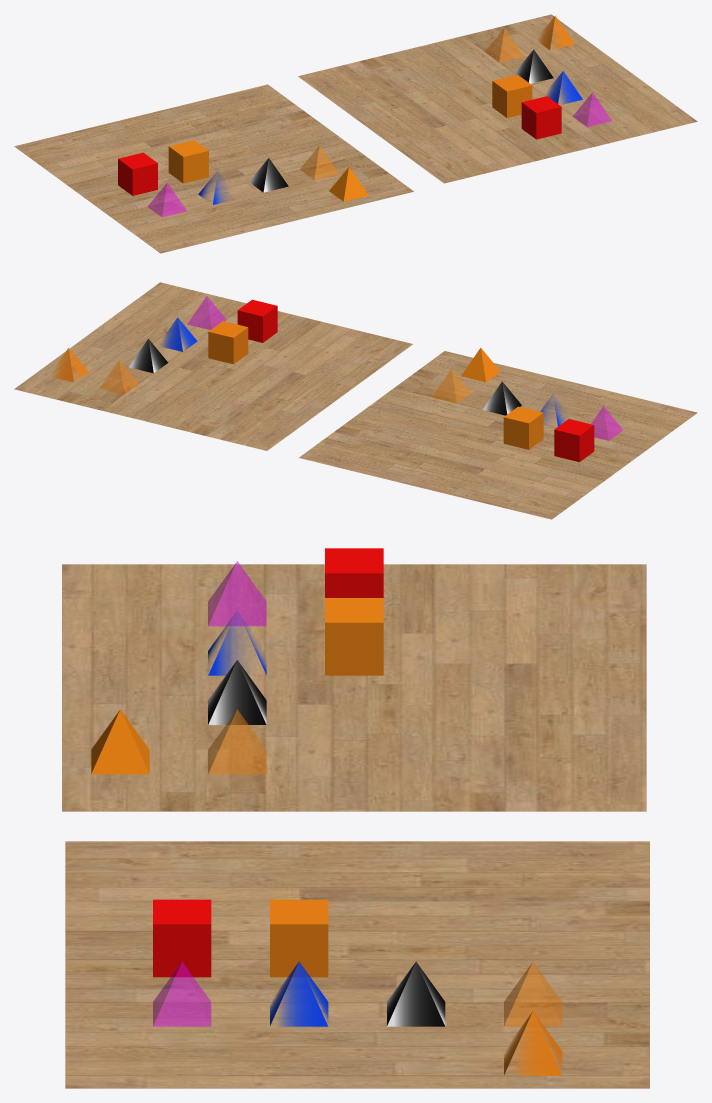
Rendered from TransparencyMode.gltf.
3 views of the same model, one above another, from view 1: azimuth 30°, elevation 25°; view 2: azimuth 150°, elevation 25°; view 3: azimuth 270°, elevation 25° (orthographic). The views are drawn at different scales.
Parts seen in each view (by area): view 1: Plane002, Plane001, Box002, Box003, Box001, Box004, Pyramid003, Pyramid005, Pyramid004, Pyramid006, Pyramid009, Pyramid001 (+4 smaller); view 2: Plane002, Plane001, Box004, Box002, Box001, Box003, Pyramid008, Pyramid005, Pyramid004, Pyramid009, Pyramid003, Pyramid006 (+3 smaller); view 3: Plane001, Plane002, Box003, Box004, Box002, Box001, Pyramid005, Pyramid004, Pyramid001, Pyramid008, Pyramid006, Pyramid003 (+4 smaller).
Part boxes in pixels (x1,y1,x2,y2): Plane002: (298,14,697,183); Plane001: (14,84,413,253); Box002: (168,140,208,183); Box003: (521,96,561,139); Box001: (118,152,157,195); Box004: (492,74,532,117); Pyramid003: (249,158,288,192); Pyramid005: (329,167,368,201); Pyramid004: (300,146,338,180); Pyramid006: (573,92,611,126); Pyramid009: (485,28,523,62); Pyramid001: (147,183,186,217); Plane002: (14,282,412,450); Plane001: (299,351,697,519); Box004: (208,321,248,364); Box002: (503,406,543,449); Box001: (554,419,594,462); Box003: (237,299,277,342); Pyramid008: (129,339,168,373); Pyramid005: (461,348,500,382); Pyramid004: (432,369,470,403); Pyramid009: (99,360,138,394); Pyramid003: (482,381,521,415); Pyramid006: (187,296,226,329); Plane001: (62,564,646,811); Plane002: (65,841,649,1088); Box003: (153,899,211,977); Box004: (270,899,328,977); Box002: (325,598,383,675); Box001: (325,548,383,597); Pyramid005: (91,709,149,774); Pyramid004: (208,709,266,774); Pyramid001: (208,561,266,626); Pyramid008: (387,961,445,1026); Pyramid006: (153,961,211,1026); Pyramid003: (208,660,266,724).
Bounding box in the file's own units: 835 × 39.38 × 396.
Materials: 15 (11 with a texture image).
